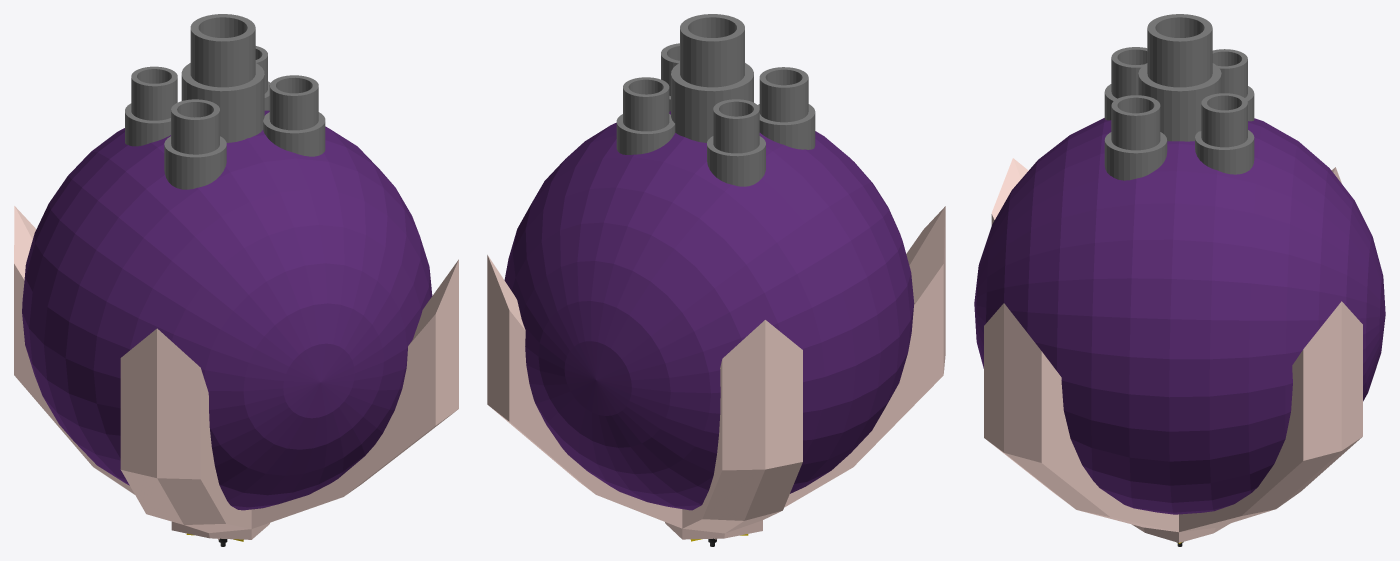
File: PrototiposNaves3.fbx
3 renders of one model, left to right at view 1: azimuth 30°, elevation 25°; view 2: azimuth 150°, elevation 25°; view 3: azimuth 270°, elevation 25°, orthographic.
Visible parts, largest first — view 1: Sphere, Cube, Cube.005; view 2: Sphere, Cube, Cube.005; view 3: Sphere, Cube, Cube.005.
Boxes of the visible parts, bbox=[...] form: Sphere: bbox=[22, 110, 432, 510]; Cube: bbox=[14, 206, 458, 541]; Cube.005: bbox=[125, 14, 325, 189]; Sphere: bbox=[504, 111, 914, 510]; Cube: bbox=[487, 206, 945, 541]; Cube.005: bbox=[616, 14, 815, 186]; Sphere: bbox=[974, 118, 1385, 514]; Cube: bbox=[984, 158, 1362, 543]; Cube.005: bbox=[1104, 14, 1254, 180].
Size of the model in its own units: 626 by 870 by 626.
